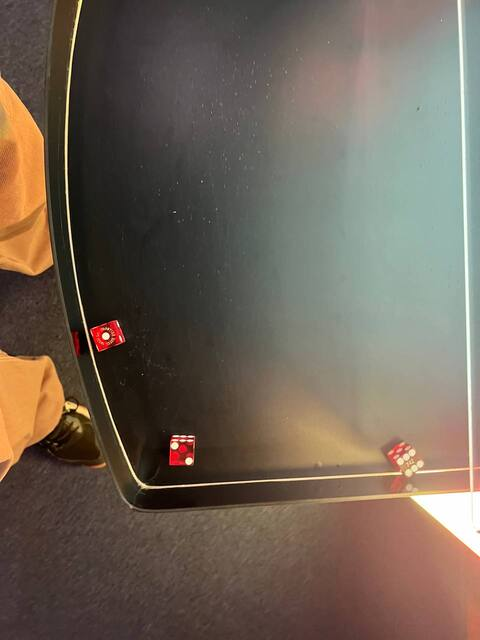one: (89, 318, 122, 353)
six: (392, 445, 429, 479)
two: (165, 440, 200, 471)
